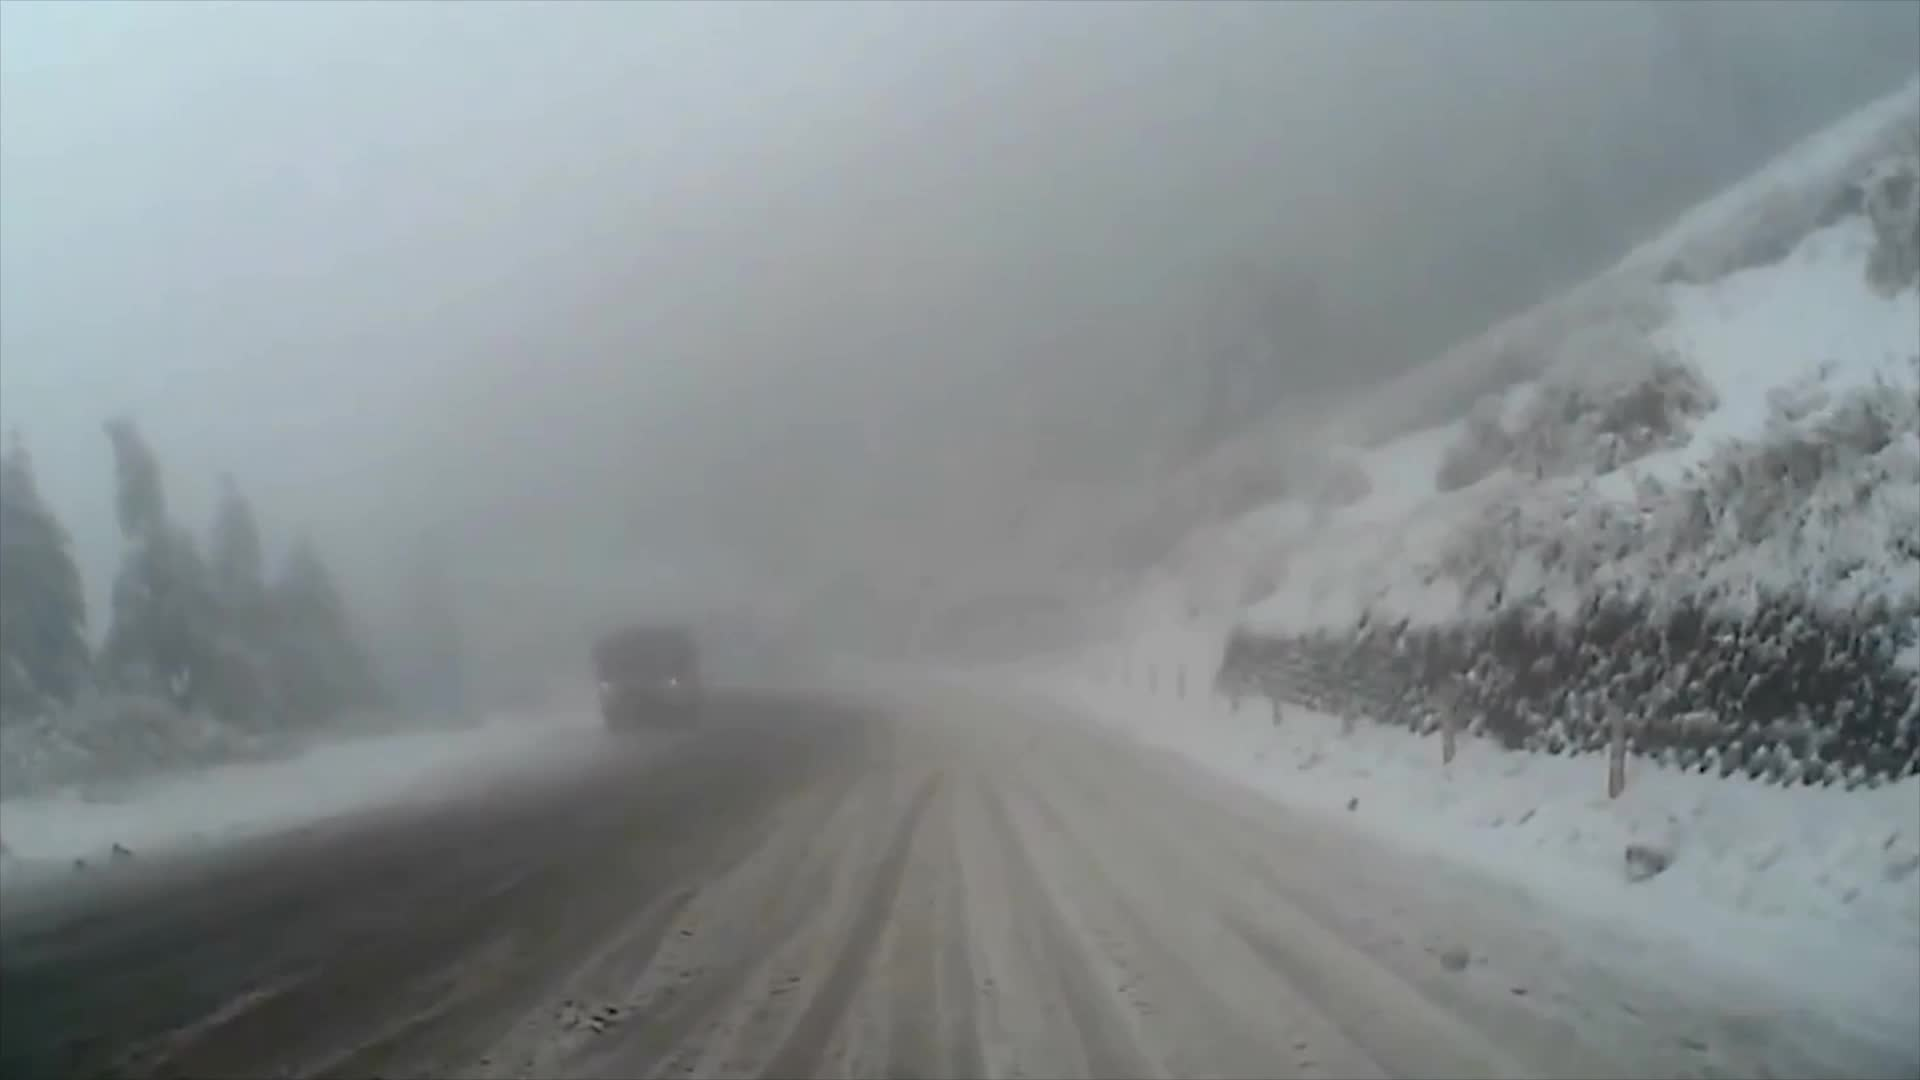vehicle: (588, 626, 702, 731)
